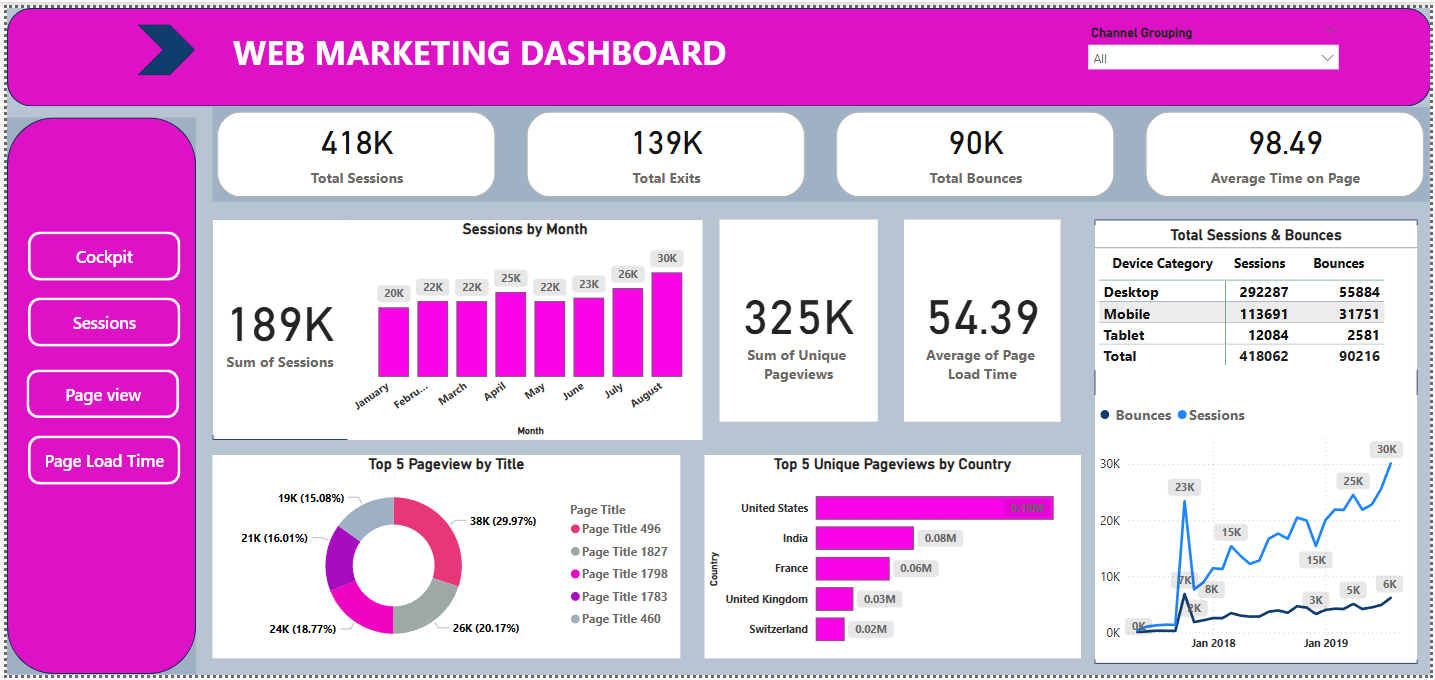

This screenshot's page, from the dashboard's own definition file:
{"tool":"powerbi","page":{"name":"Page 1","canvas":[1600,750],"ordinal":0},"visuals":[{"type":"shape","box":[230.9,238.5,550.8,247.9],"z":0},{"type":"shape","box":[0,123.1,212.5,625.8],"z":1000},{"type":"shape","box":[0,0,1601.3,110.6],"z":2000},{"type":"cardVisual","fields":{"Data":["Sum(Web Marketing_Migrated Data.Sessions)","Sum(Web Marketing_Migrated Data.Exits)","Sum(Web Marketing_Migrated Data.Bounces)","Avg(Web Marketing_Migrated Data.Time on Page)"]},"box":[230.7,110.6,1368.7,106.8],"z":3000},{"type":"shape","box":[1222.7,238.5,363.4,499.7],"z":4000},{"type":"card","fields":{"Values":["Sum(Web Marketing_Migrated Data.Sessions)"]},"box":[230.9,238.5,151.4,242.3],"z":5000},{"type":"clusteredColumnChart","title":"Sessions by Month","fields":{"Category":["Web Marketing_Migrated Data.Date.Variation.Date Hierarchy.Month"],"Y":["Sum(Web Marketing_Migrated Data.Sessions)"]},"box":[382.3,238.5,399.4,247.9],"z":6000},{"type":"card","fields":{"Values":["Avg(Web Marketing_Migrated Data.Page Load Time)"]},"box":[1008.8,238.5,176,227.1],"z":7000},{"type":"card","fields":{"Values":["Sum(Web Marketing_Migrated Data.Unique Pageviews)"]},"box":[800.6,238.5,177.9,227.1],"z":8000},{"type":"pivotTable","title":"Total Sessions & Bounces","fields":{"Rows":["Web Marketing_Migrated Data.Device Category"],"Values":["Sum(Web Marketing_Migrated Data.Sessions)","Sum(Web Marketing_Migrated Data.Bounces)"]},"box":[1222.7,244.2,363.4,162.8],"z":9000},{"type":"lineChart","fields":{"Category":["Web Marketing_Migrated Data.Date.Variation.Date Hierarchy.Year","Web Marketing_Migrated Data.Date.Variation.Date Hierarchy.Month"],"Y":["Sum(Web Marketing_Migrated Data.Bounces)","Sum(Web Marketing_Migrated Data.Sessions)"]},"box":[1222.7,435.3,363.4,297.2],"z":10000},{"type":"donutChart","title":"Top 5 Pageview by Title","fields":{"Category":["Web Marketing_Migrated Data.Page Title","Web Marketing_Migrated Data.Device Category"],"Y":["Sum(Web Marketing_Migrated Data.Unique Pageviews)"]},"box":[230.7,503.3,526.1,228.8],"z":11000},{"type":"clusteredBarChart","title":"Top 5 Unique Pageviews by Country","fields":{"Y":["Sum(Web Marketing_Migrated Data.Unique Pageviews)"],"Category":["Web Marketing_Migrated Data.Country"]},"box":[783.5,503.3,423.2,228.8],"z":12000},{"type":"textbox","box":[211.6,19.1,608.1,78.2],"z":13000},{"type":"slicer","fields":{"Values":["Web Marketing_Migrated Data.Channel Grouping"]},"box":[1206.7,13.3,301.2,91.5],"z":14000},{"type":"shape","box":[146.8,19.1,64.8,57.2],"z":15000},{"type":"actionButton","box":[22.9,251.6,171.6,55.3],"z":16000},{"type":"actionButton","box":[22.9,326,171.6,55.3],"z":17000},{"type":"actionButton","box":[22.9,480.4,171.6,55.3],"z":18000},{"type":"actionButton","box":[22.7,406.9,172.2,54.9],"z":19000}]}

Visuals, with their boxes in screenshot pixels (x1, y1, x2, y2), scaled from the page's 1600x750 canvas onto the 1435x680 screenshot:
shape: <region>207, 216, 701, 441</region>
shape: <region>0, 112, 191, 679</region>
shape: <region>0, 0, 1434, 100</region>
cardVisual - Sum(Web Marketing_Migrated Data.Sessions) x Sum(Web Marketing_Migrated Data.Exits): <region>207, 100, 1434, 197</region>
shape: <region>1097, 216, 1423, 669</region>
card - Sum(Web Marketing_Migrated Data.Sessions): <region>207, 216, 343, 436</region>
"Sessions by Month" clusteredColumnChart: <region>343, 216, 701, 441</region>
card - Avg(Web Marketing_Migrated Data.Page Load Time): <region>905, 216, 1063, 422</region>
card - Sum(Web Marketing_Migrated Data.Unique Pageviews): <region>718, 216, 878, 422</region>
"Total Sessions & Bounces" pivotTable: <region>1097, 221, 1423, 369</region>
lineChart - Web Marketing_Migrated Data.Date.Variation.Date Hierarchy.Year x Web Marketing_Migrated Data.Date.Variation.Date Hierarchy.Month: <region>1097, 395, 1423, 664</region>
"Top 5 Pageview by Title" donutChart: <region>207, 456, 679, 664</region>
"Top 5 Unique Pageviews by Country" clusteredBarChart: <region>703, 456, 1082, 664</region>
textbox: <region>190, 17, 735, 88</region>
slicer - Web Marketing_Migrated Data.Channel Grouping: <region>1082, 12, 1352, 95</region>
shape: <region>132, 17, 190, 69</region>
actionButton: <region>21, 228, 174, 278</region>
actionButton: <region>21, 296, 174, 346</region>
actionButton: <region>21, 436, 174, 486</region>
actionButton: <region>20, 369, 175, 419</region>
